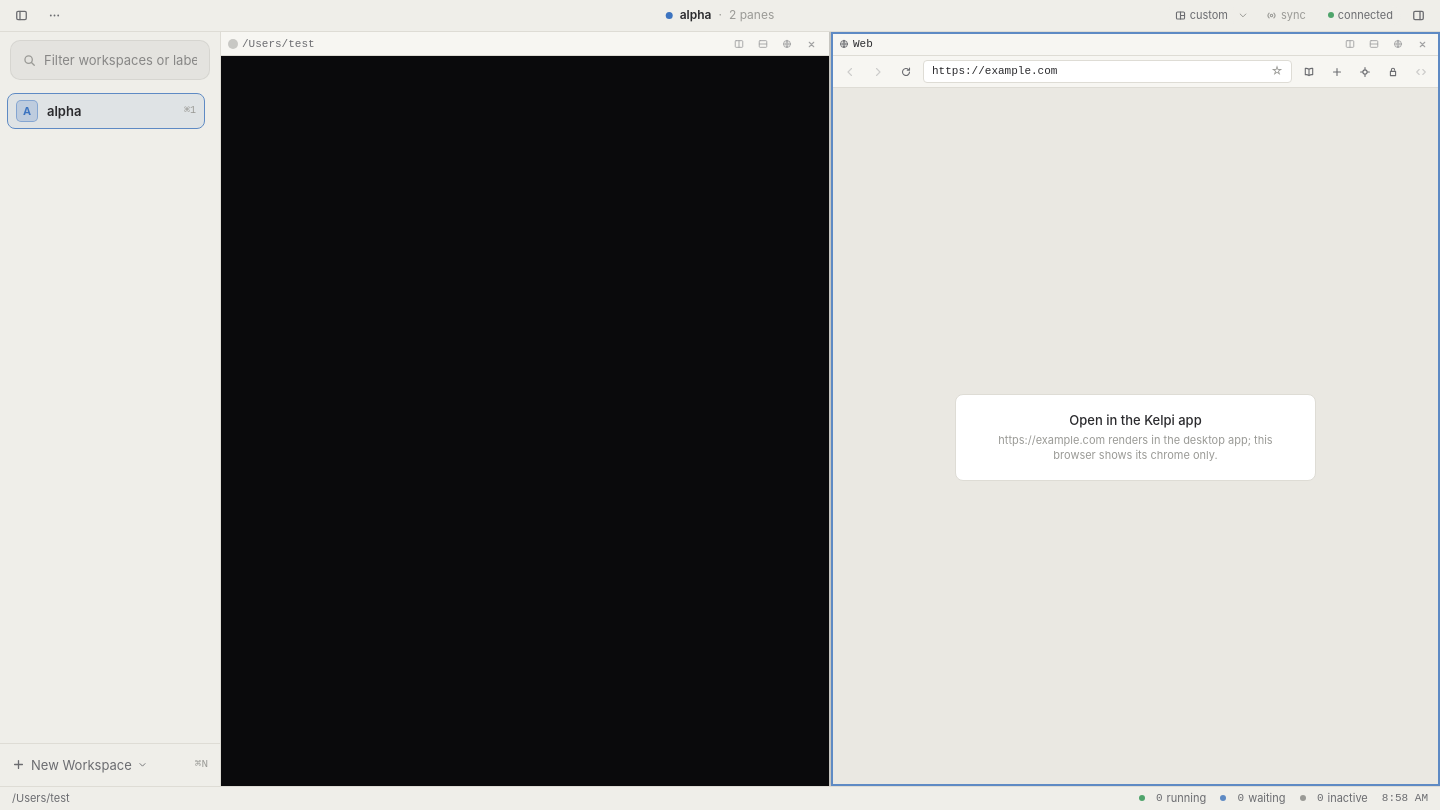
Scenario: modals park a live web pane (§H1) › the popups H1 never enrolled (§N26) › the title bar's layout dropdown parks it, and closing hands it back
The image size is (1440, 810).
Click the button with test id "layout-menu-toggle".
click(1243, 16)  # box [1234, 8, 1252, 24]
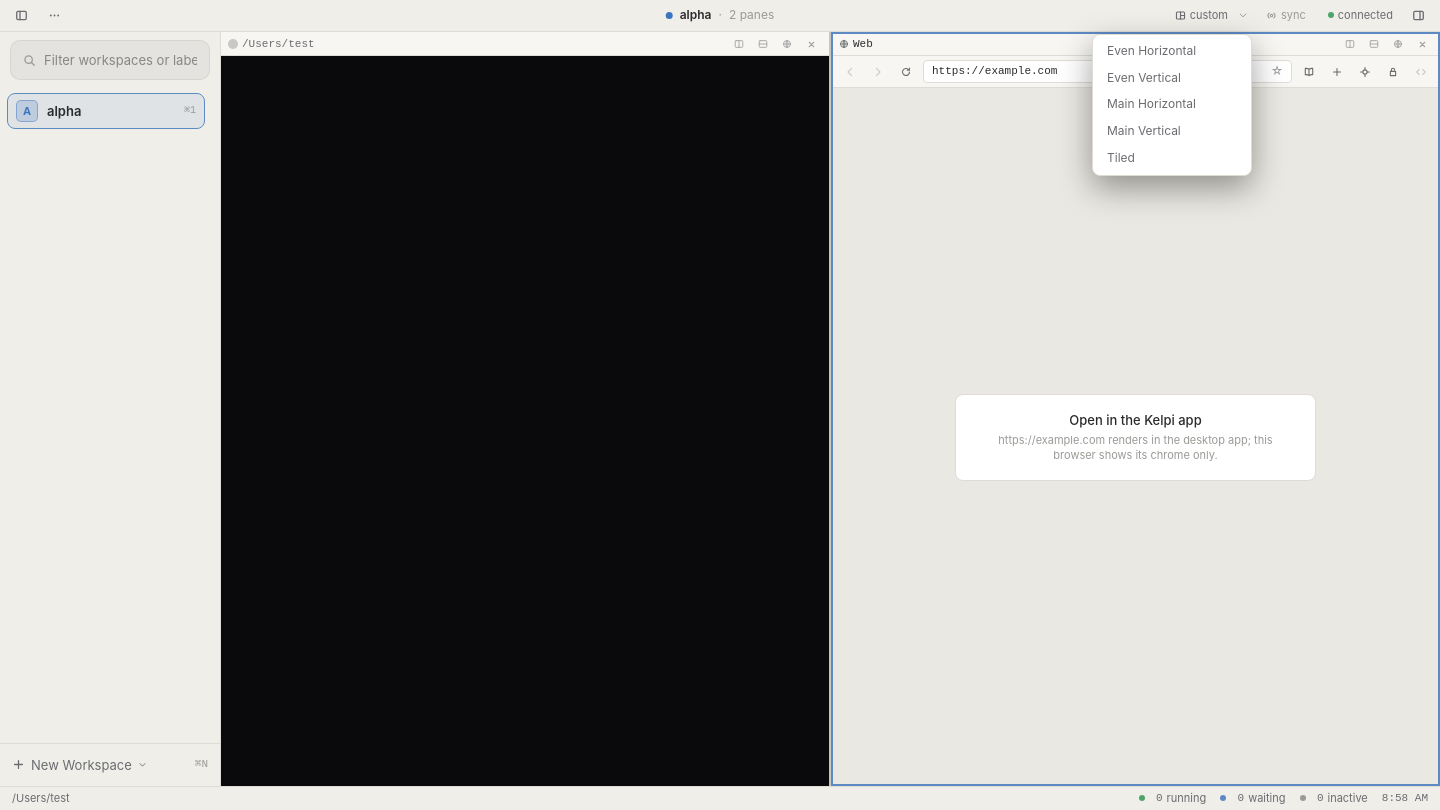
Now the menu with test id "layout-menu" is shown, box [1092, 34, 1252, 176]
Press Escape
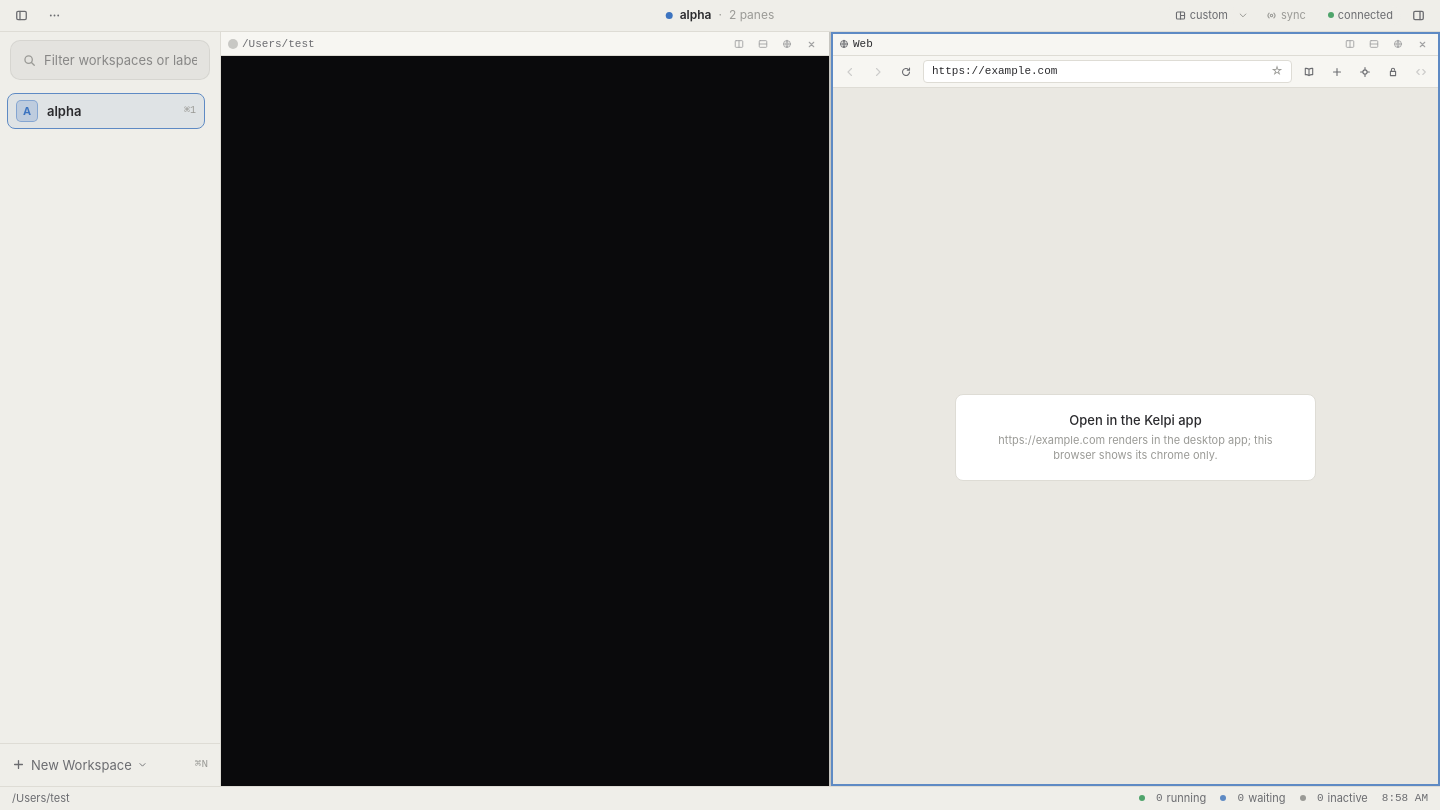
Now the menu with test id "layout-menu" is gone
